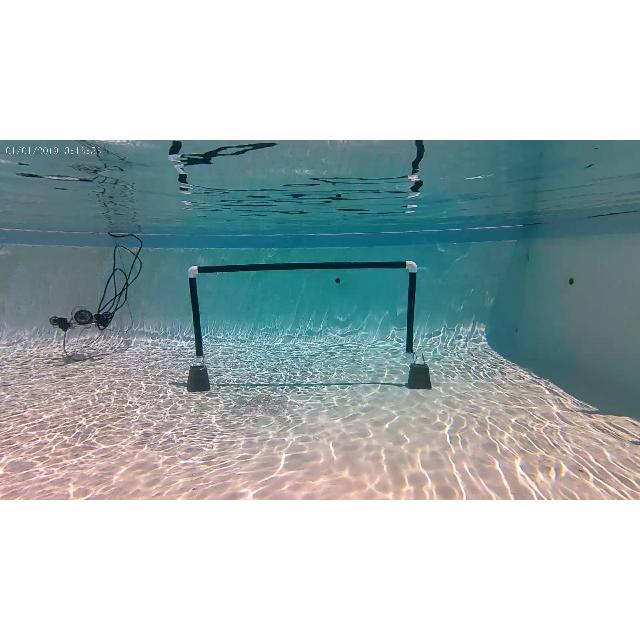prequal gate: (188, 260, 418, 362)
prequal gate leg l: (186, 266, 206, 364)
prequal gate leg r: (406, 260, 420, 358)
